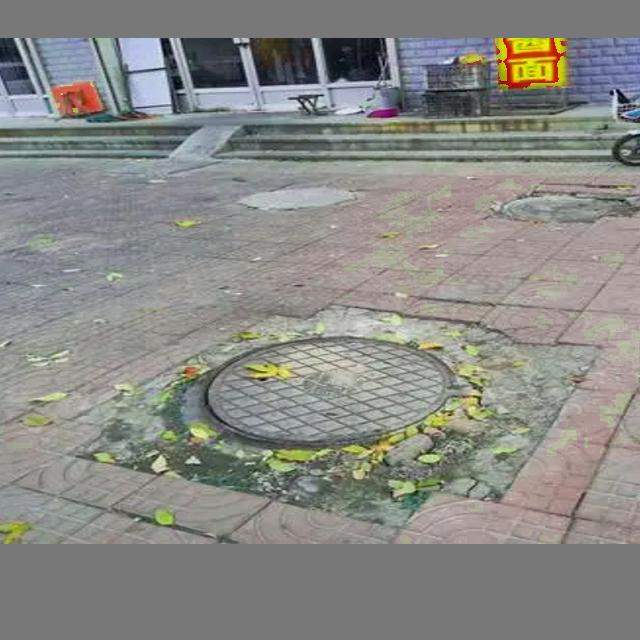circle: (108, 303, 578, 519)
